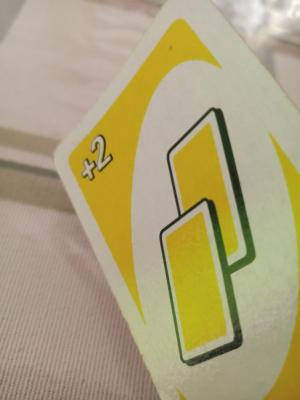-2: (78, 130, 132, 210)
yellow: (146, 102, 272, 368)
